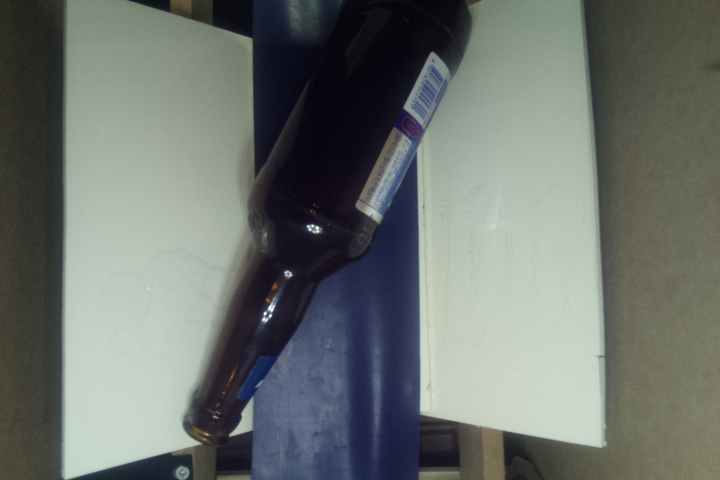makju: (180, 1, 476, 448)
